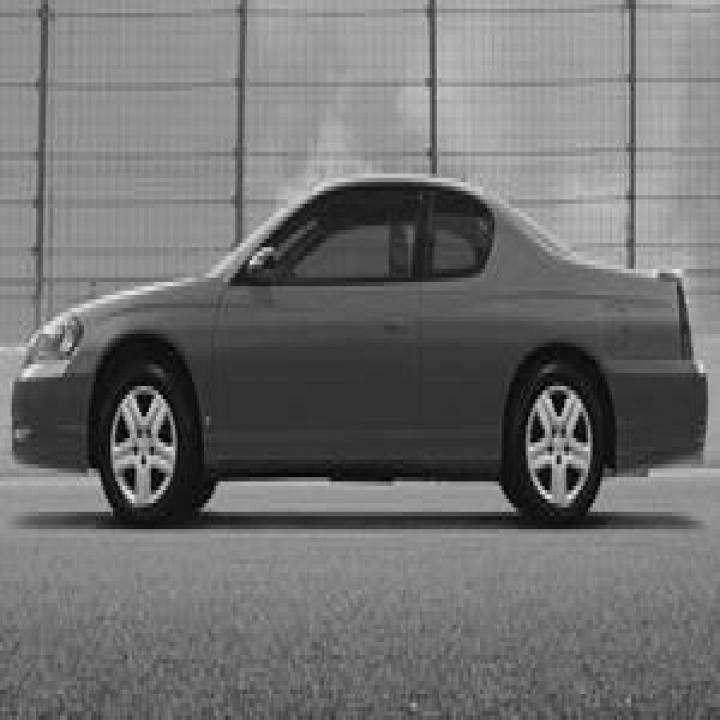car: (10, 169, 708, 525)
